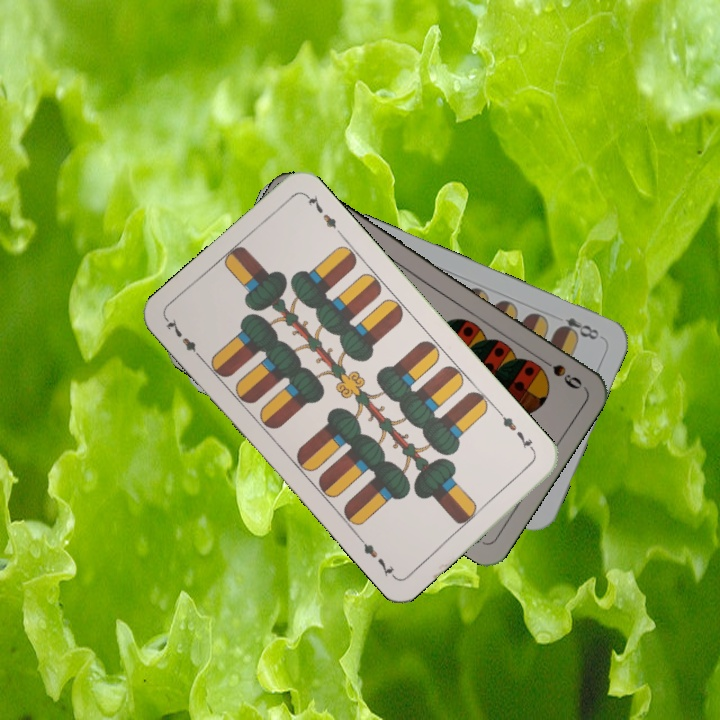E7: (495, 408, 539, 457), (162, 314, 206, 363)
E8: (553, 313, 605, 343)
S9: (533, 352, 585, 393)
